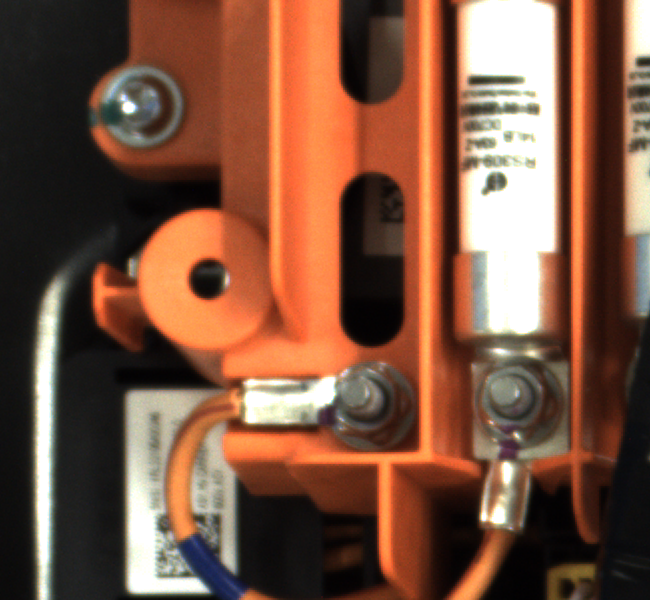screw_m: (91, 61, 189, 150)
screw_s: (311, 349, 414, 445), (473, 346, 564, 448)
